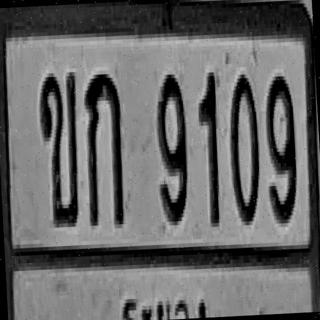A01: (82, 70, 126, 226)
A02: (38, 68, 82, 224)
N00: (227, 70, 262, 222)
N01: (197, 70, 223, 225)
N09: (263, 72, 300, 220), (154, 70, 190, 222)
